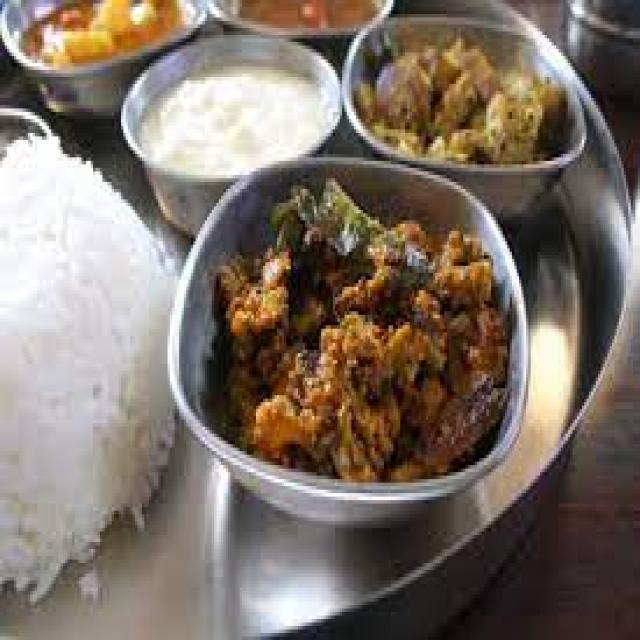curd: (134, 37, 337, 201)
rice: (2, 143, 172, 560)
veg: (233, 191, 494, 492)
veg-fry: (340, 0, 568, 175)
